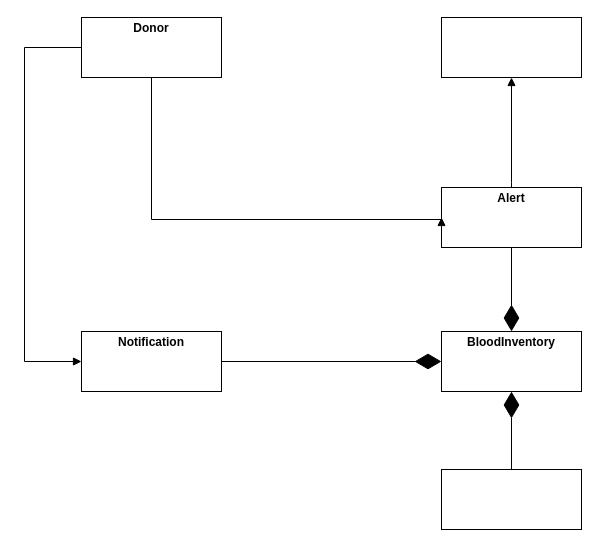
This 599x547 diagram has some shape labels left out. Each missing label, with the centre of its shape:
"Hospital" goes at point 511,47.
"InventoryLog" goes at point 511,499.
